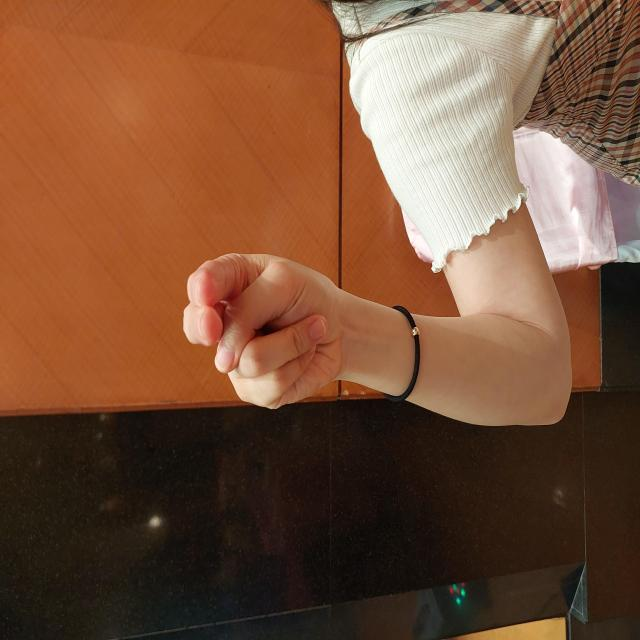N: (230, 180, 390, 347)
